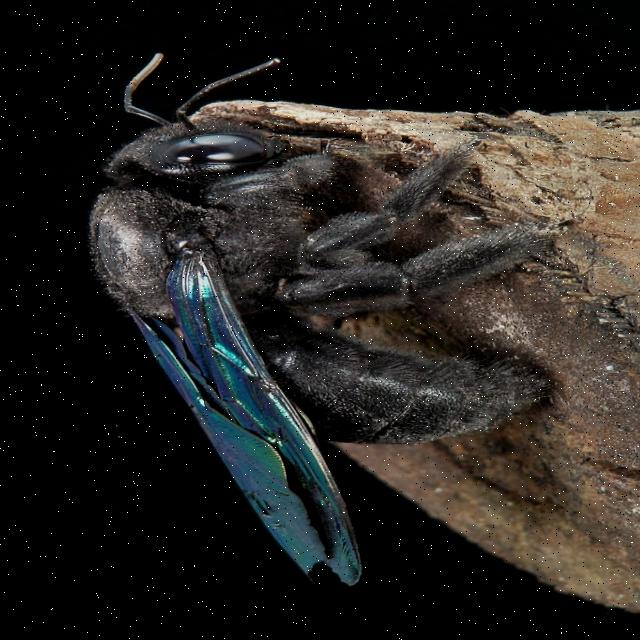Xylocopa: (84, 42, 561, 587)
